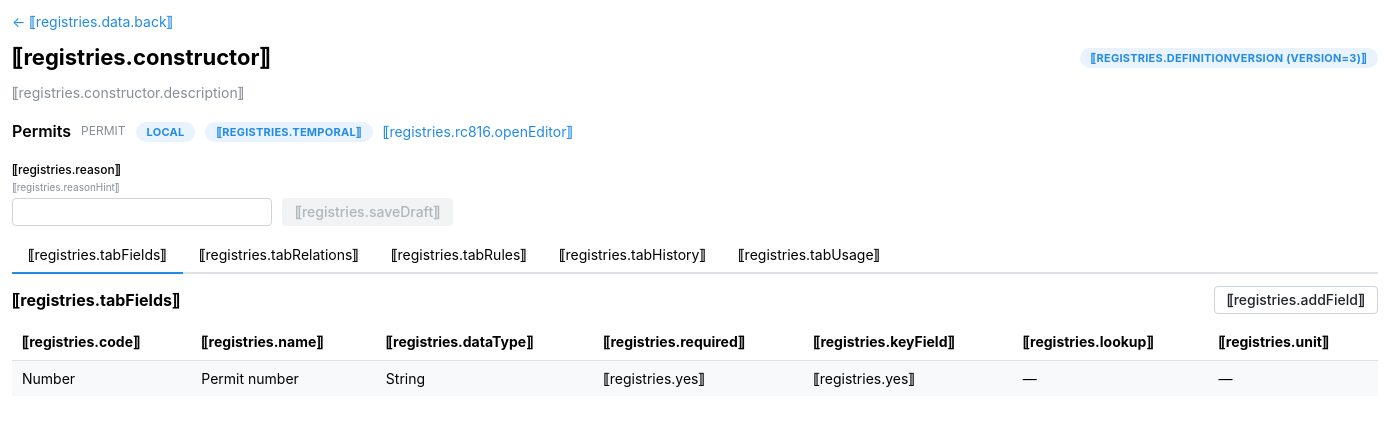
it: RegistryConstructorPage: відмова журналу змін ≠ «змін не було» › історія приїхала — записи на місці, банера немає
Step 1. Click the tab "⟦registries.tabHistory⟧" → (632, 256), box x1=543 y1=238 x2=722 y2=274
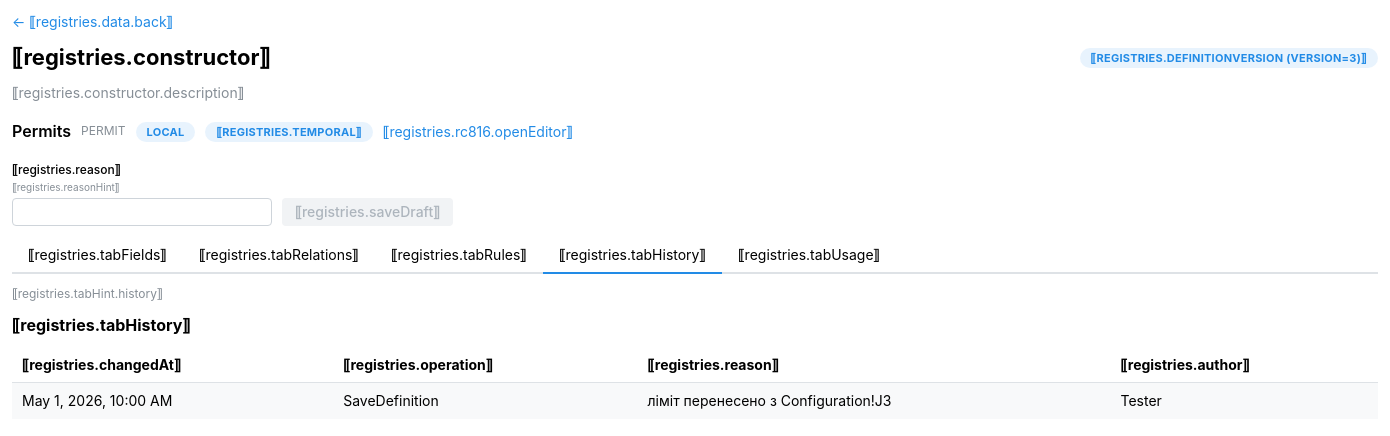
expect the text "ліміт перенесено з Configuration!J3" is shown: met, box x1=638 y1=383 x2=1110 y2=419
